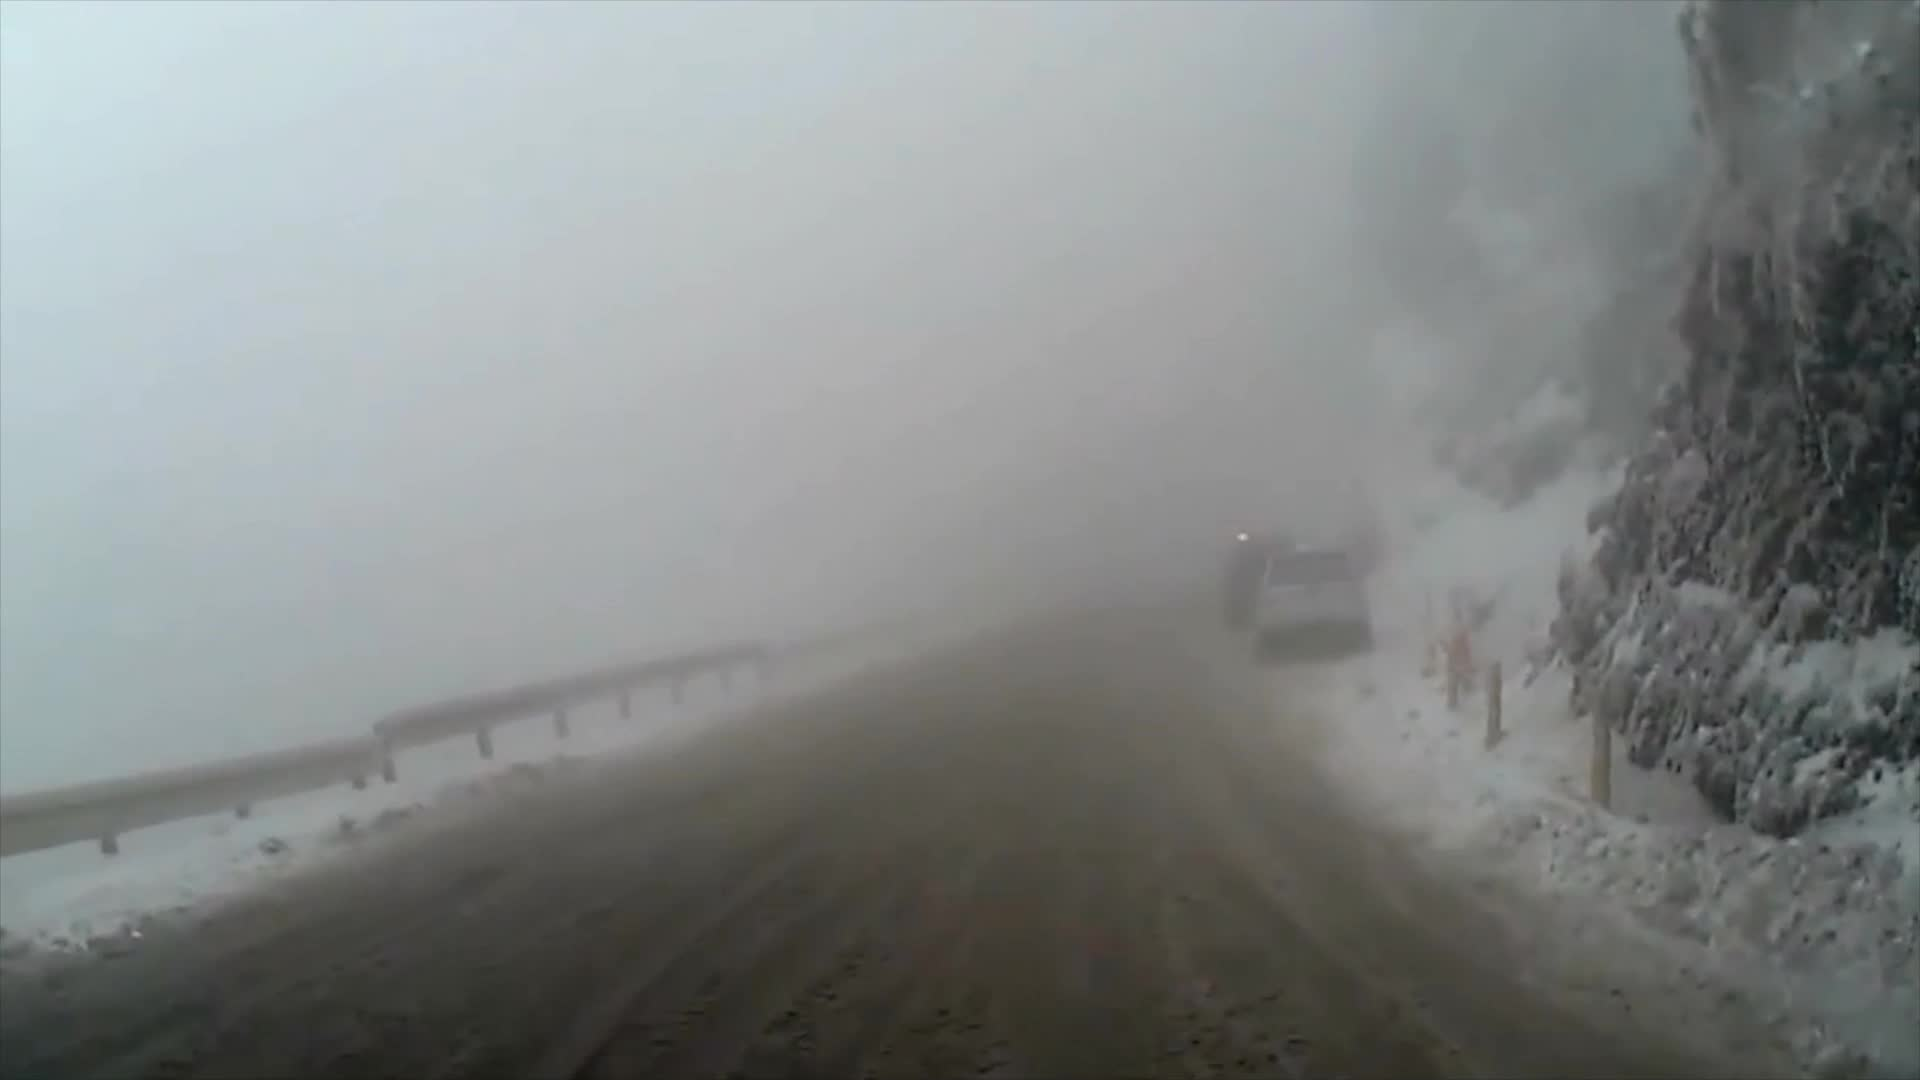vehicle: (1251, 541, 1370, 659)
